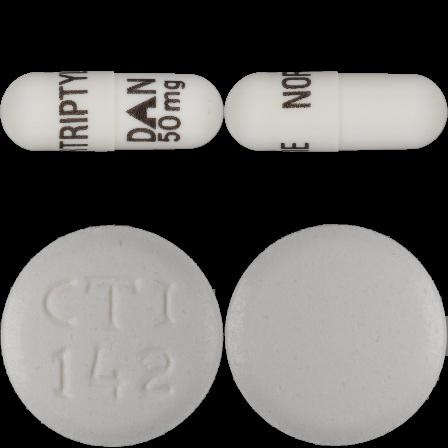63187-088: (0, 0, 224, 224)
